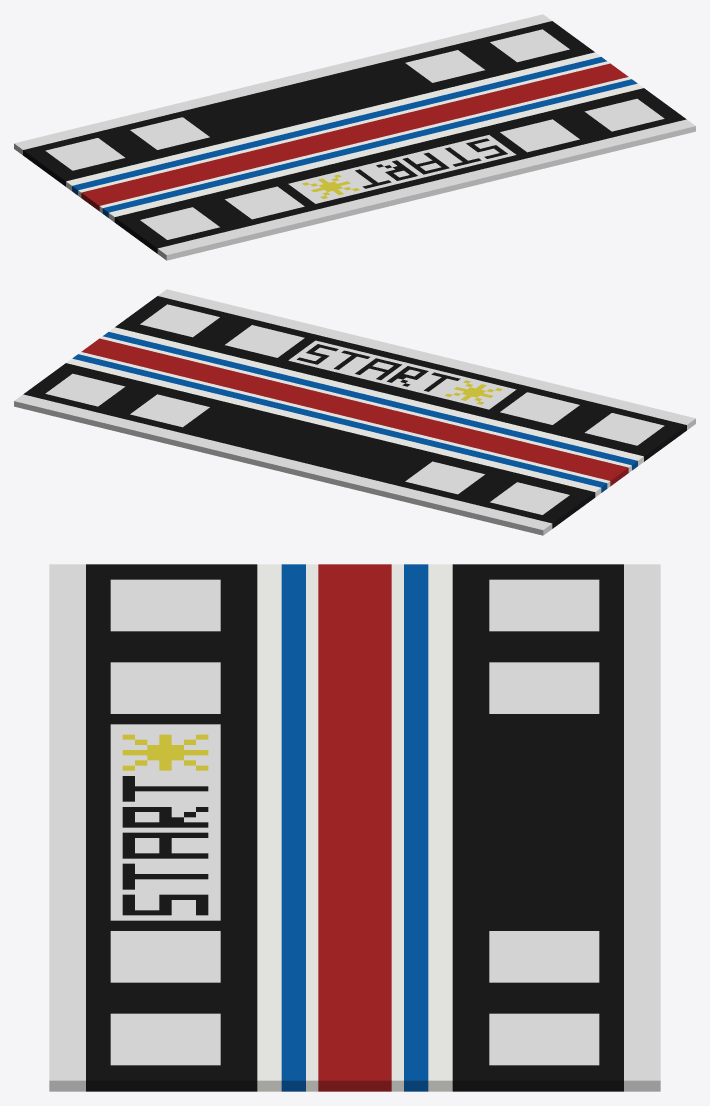
Rendered from CONCEPT_APRIXSTART.obj.
3 renders of one model, top to bottom at view 1: azimuth 30°, elevation 25°; view 2: azimuth 150°, elevation 25°; view 3: azimuth 270°, elevation 25°, orthographic. The views are drawn at different scales.
Size of the model in its own units: 100 by 1 by 50.
1 material, 1 textured.
